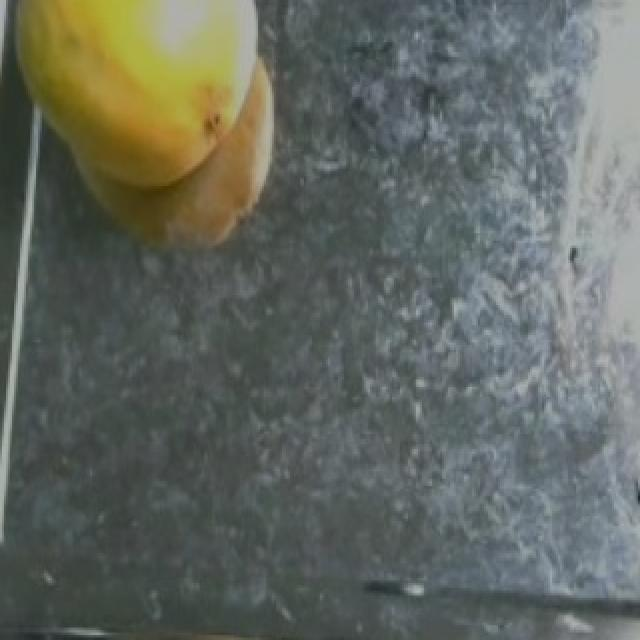fruit: (4, 0, 300, 216)
